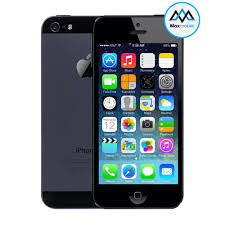iphone5: (38, 13, 187, 209), (89, 12, 184, 210)
